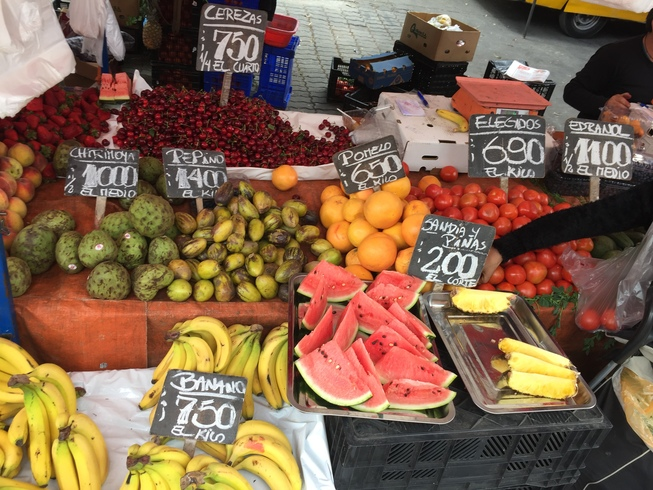precio: (149, 360, 250, 453), (410, 208, 501, 300), (465, 105, 549, 187), (560, 114, 641, 192), (192, 2, 274, 75), (330, 133, 409, 195), (61, 143, 141, 202), (158, 143, 232, 204)
